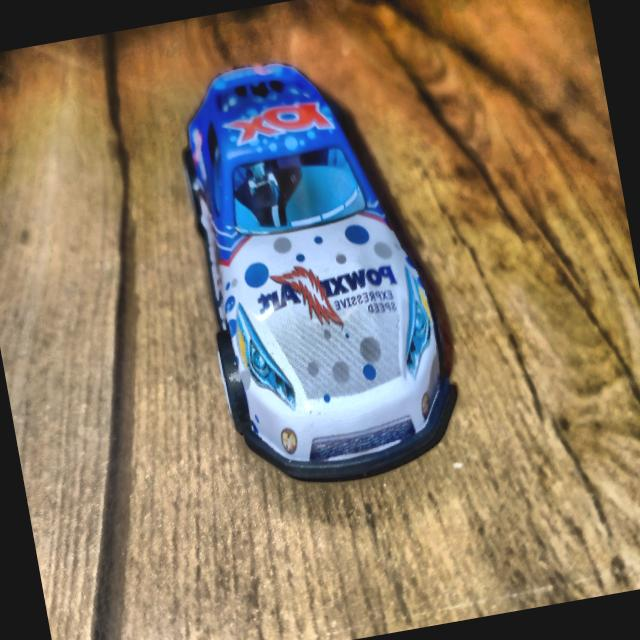Car: (171, 42, 466, 495)
